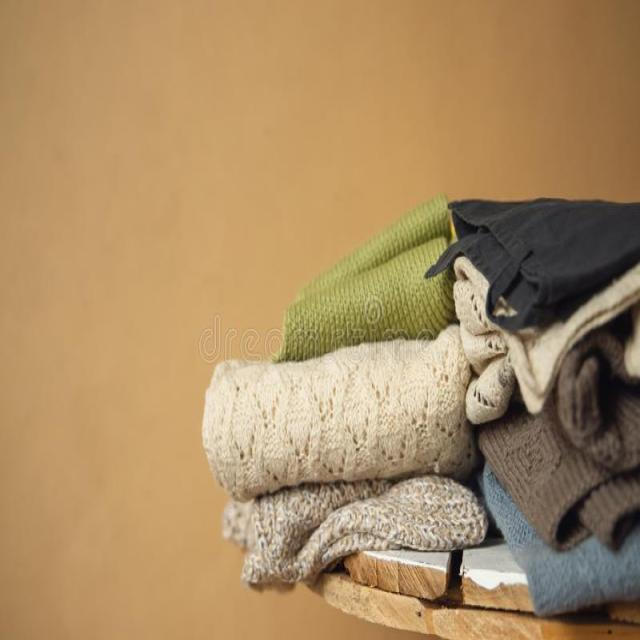clothes: (210, 223, 470, 628), (457, 195, 640, 640)
